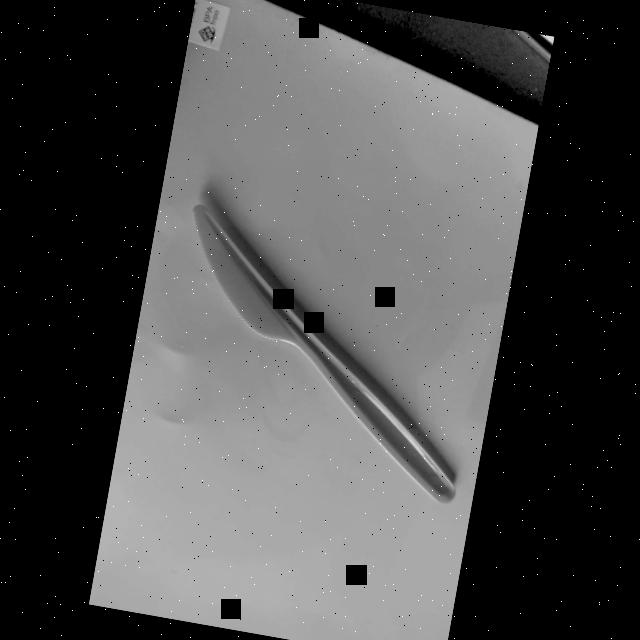plastic_cultery: (145, 202, 498, 508)
